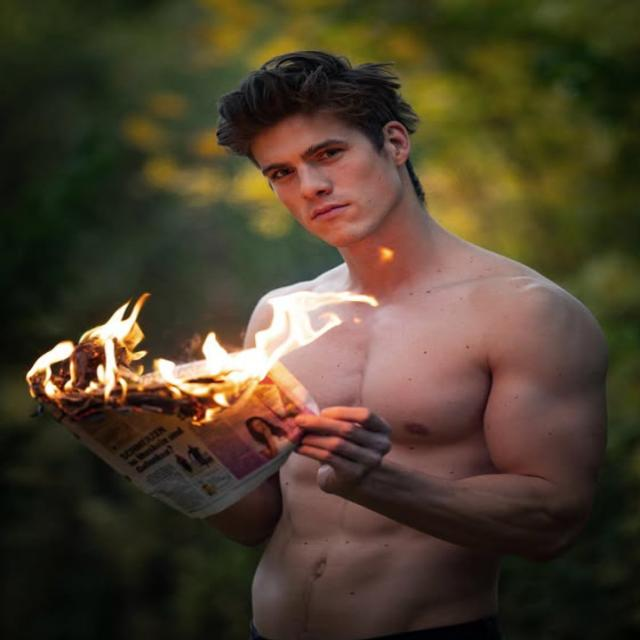fire: (153, 291, 378, 407), (26, 293, 151, 401)
